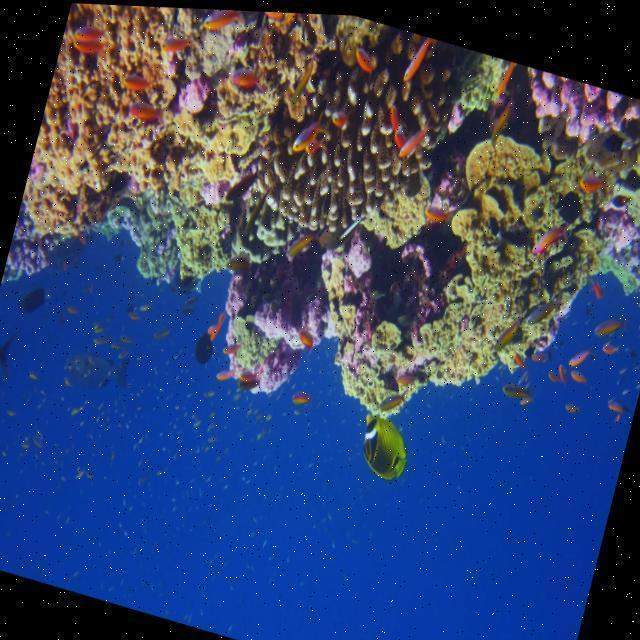Healthy Coral: (0, 0, 288, 347), (405, 101, 625, 452), (234, 8, 462, 303), (492, 60, 640, 189)
